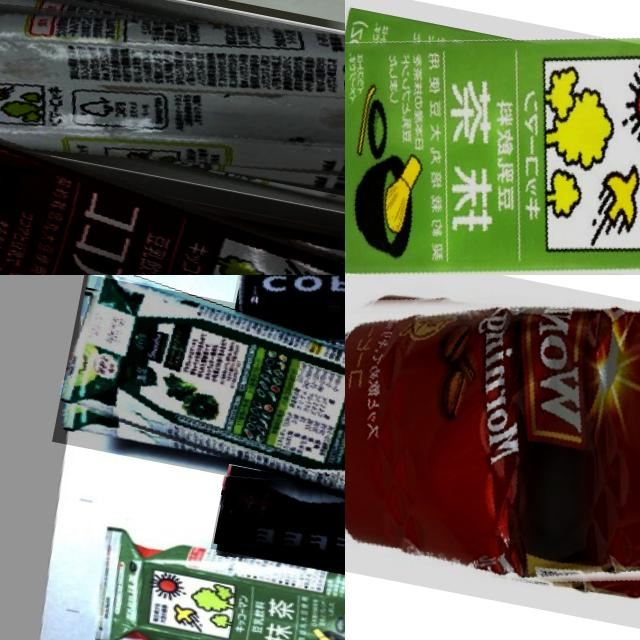Aluminium Foil: (345, 0, 640, 275), (0, 0, 345, 235), (51, 275, 345, 518), (0, 120, 345, 275), (83, 528, 345, 640)
Can: (345, 275, 640, 636), (0, 0, 345, 65), (209, 457, 345, 592), (227, 275, 345, 374)
